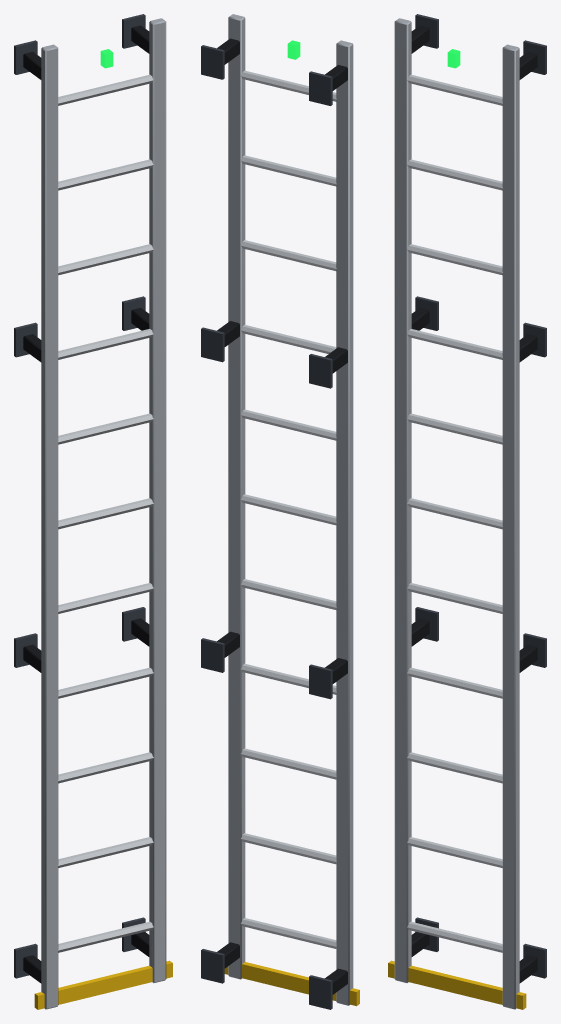
File: railing_maintenance_ladder.glb
The picture shows the model from 3 angles, left to right: view 1: azimuth 30°, elevation 25°; view 2: azimuth 150°, elevation 25°; view 3: azimuth 330°, elevation 25°; orthographic projection.
Visible parts, largest first — view 1: railing_maintenance_ladder; view 2: railing_maintenance_ladder; view 3: railing_maintenance_ladder.
Part boxes in pixels (x1,y1,x2,y2): railing_maintenance_ladder: [14, 14, 172, 1009]; railing_maintenance_ladder: [201, 14, 359, 1009]; railing_maintenance_ladder: [388, 14, 546, 1009].
Size of the model in its own units: 0.5 by 3.4 by 0.195.
